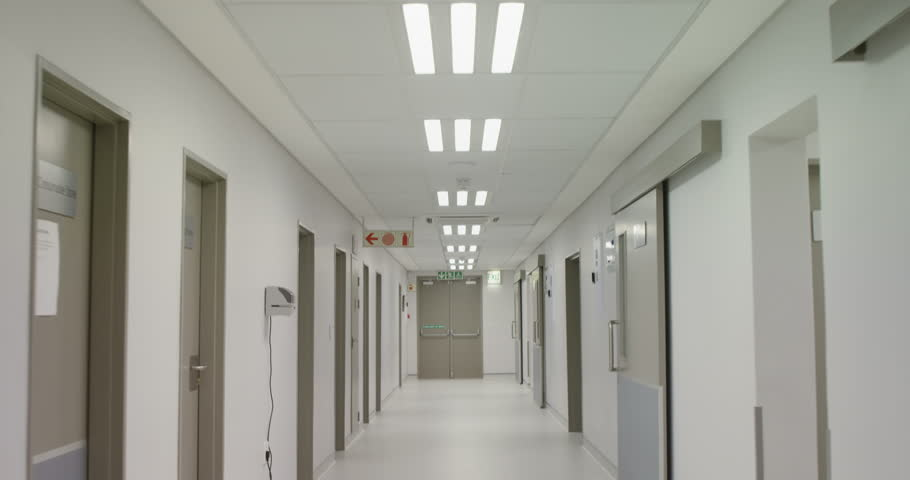door_handle: (186, 354, 210, 394), (606, 318, 621, 373), (530, 318, 540, 346), (510, 319, 519, 341)
push_latch: (420, 328, 455, 341), (451, 326, 486, 339)
